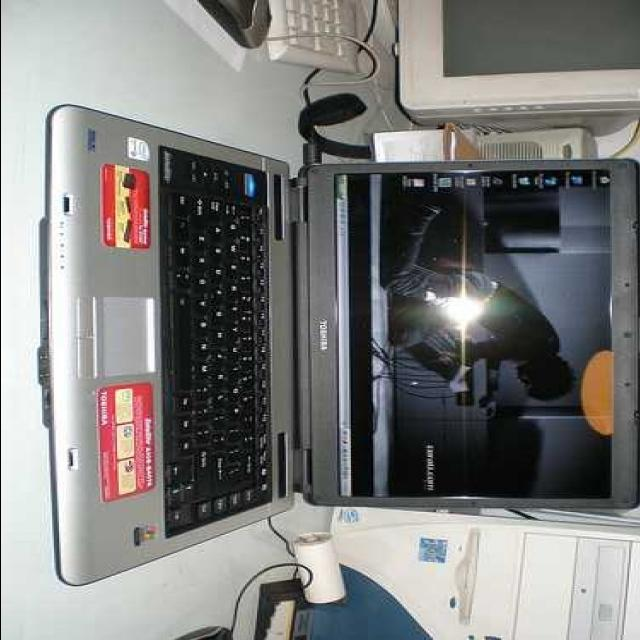laptop: (28, 122, 640, 586)
